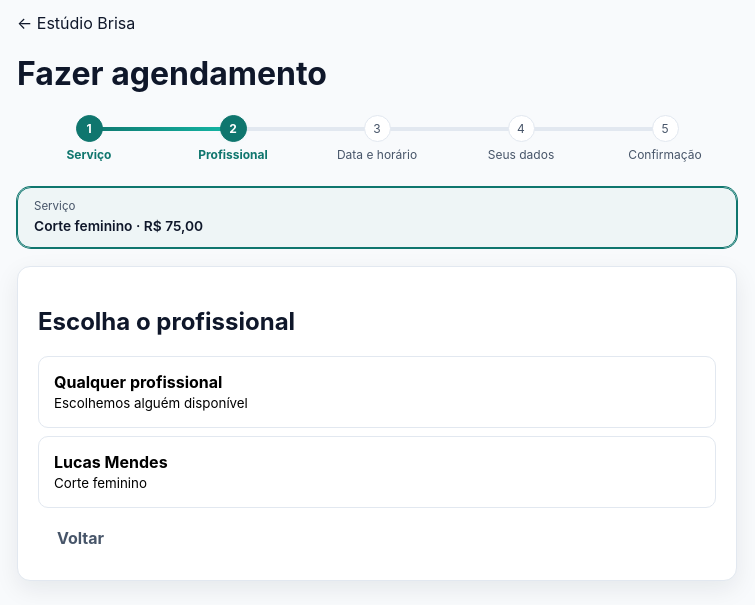
Test: agendamento de um estabelecimento real › mostra somente as datas com horários livres
Expected: the heading "Escolha o profissional" is shown, [38,307,295,336]
Click the button "Lucas Mendes": (111, 462) [38,436,716,508]
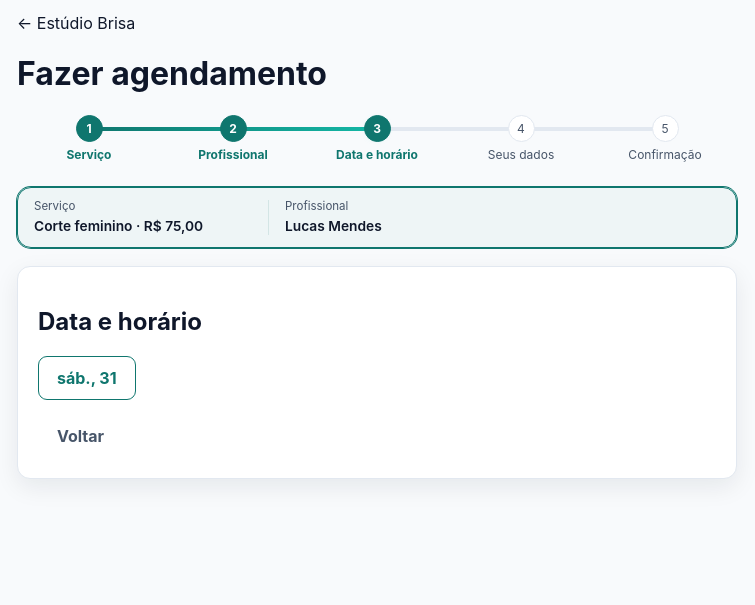
Click the button "sáb., 31": (87, 378) [38,356,136,400]
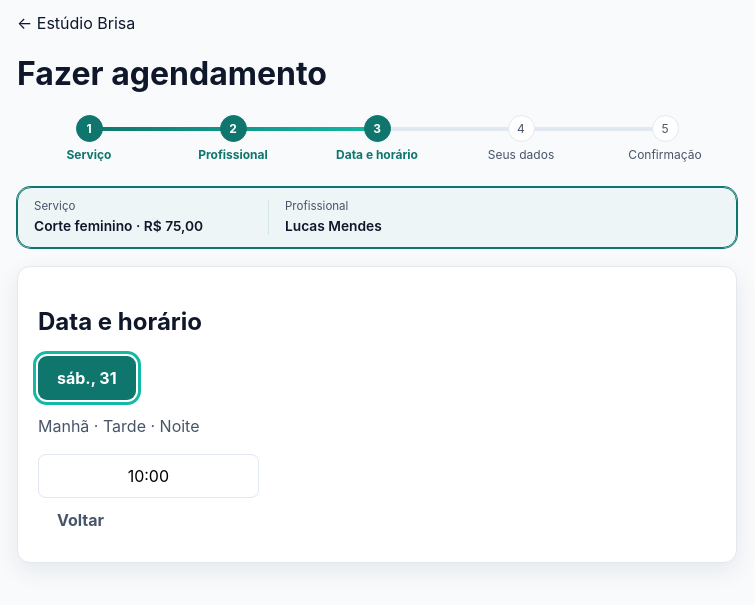
Expected: the button "10:00" is shown, [38,454,259,498]
